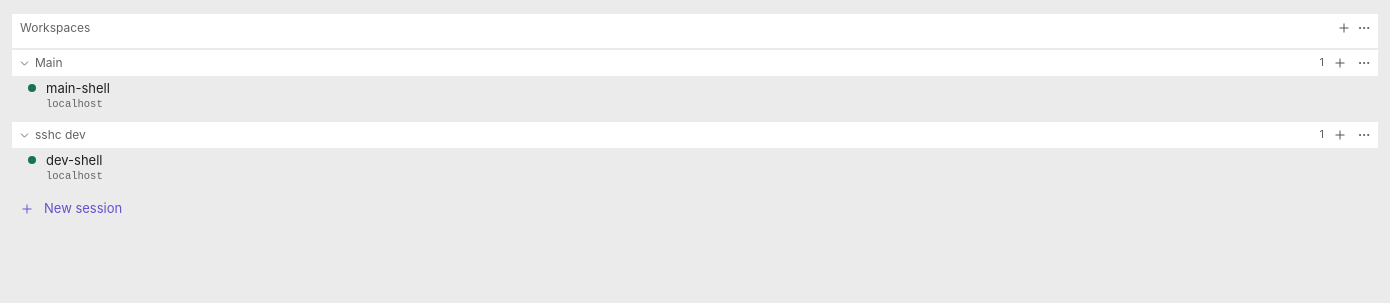
Test: WorkspaceTree › shows hidden workspaces from the heading menu and remembers it
Click the button named "Workspace list actions" at coordinates (1364, 28), box left=1354, top=18, right=1374, bottom=38
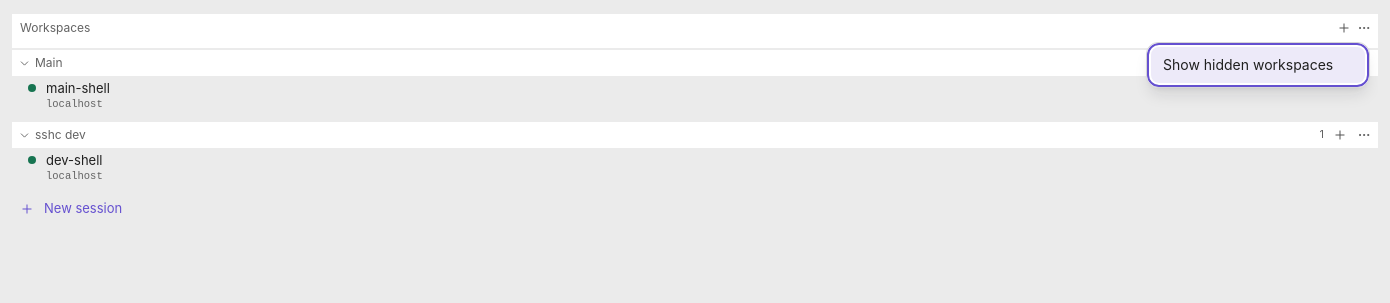
Click the menu item "Show hidden workspaces" at coordinates (1258, 65), box left=1151, top=47, right=1365, bottom=83
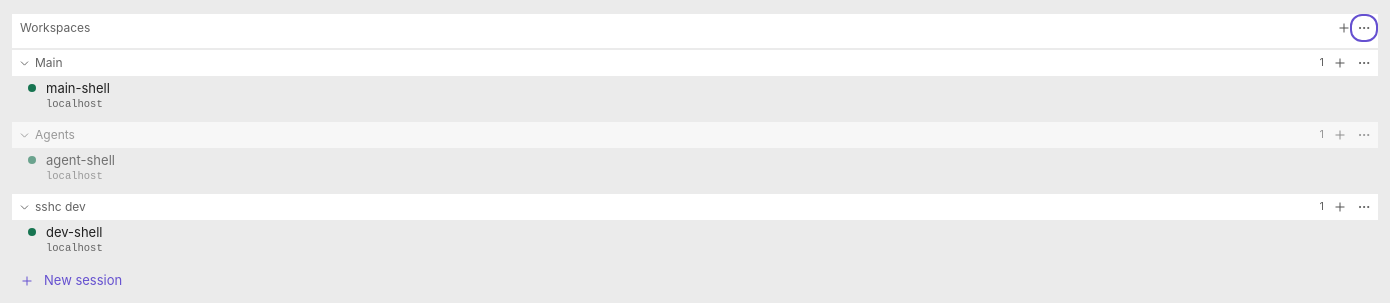
Expected: the text "agent-shell" is shown, left=46, top=151, right=115, bottom=169
